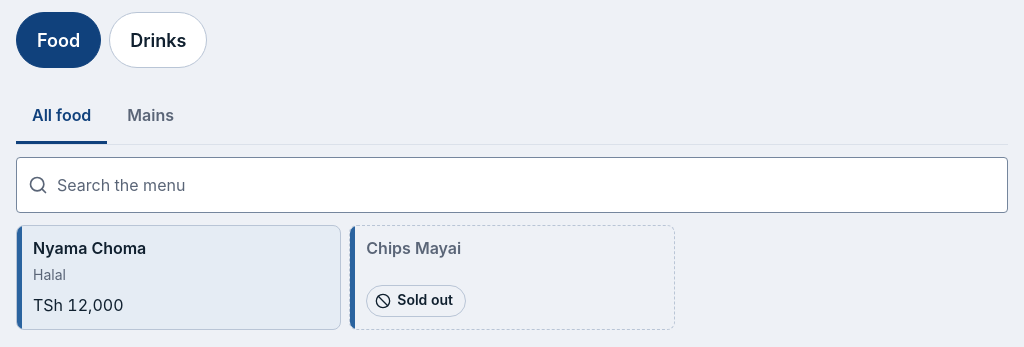
MenuPanel with the Restaurant & Bar module's menu (S16-B4) › offline, an item with sizes says it sells as its default size, and that more sizes need a connection
This screenshot has width=1024, height=347.
Click the tab "Drinks" at (158, 40), box [109,12,207,68]
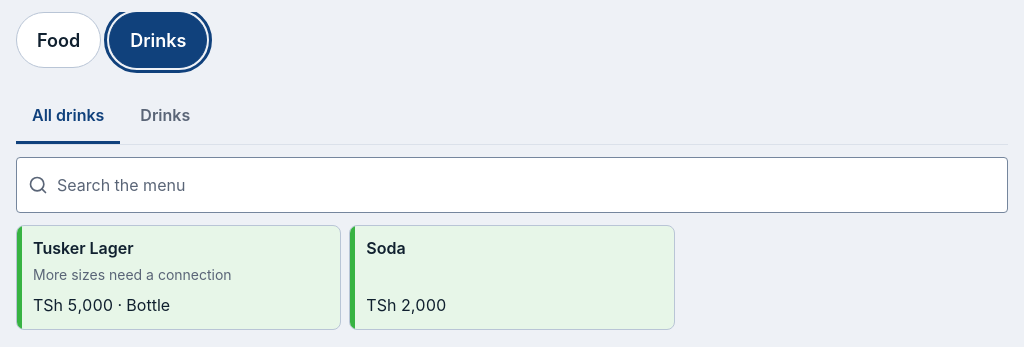
Expected: the button with test id "menu-Soda" does not show "More sizes need a connection", [349,225,675,330]
Expected: the button with test id "menu-Tusker Lager" shows "TSh 5,000 · Bottle", [16,225,341,330]
Expected: the button with test id "menu-Tusker Lager" shows "More sizes need a connection", [16,225,341,330]
